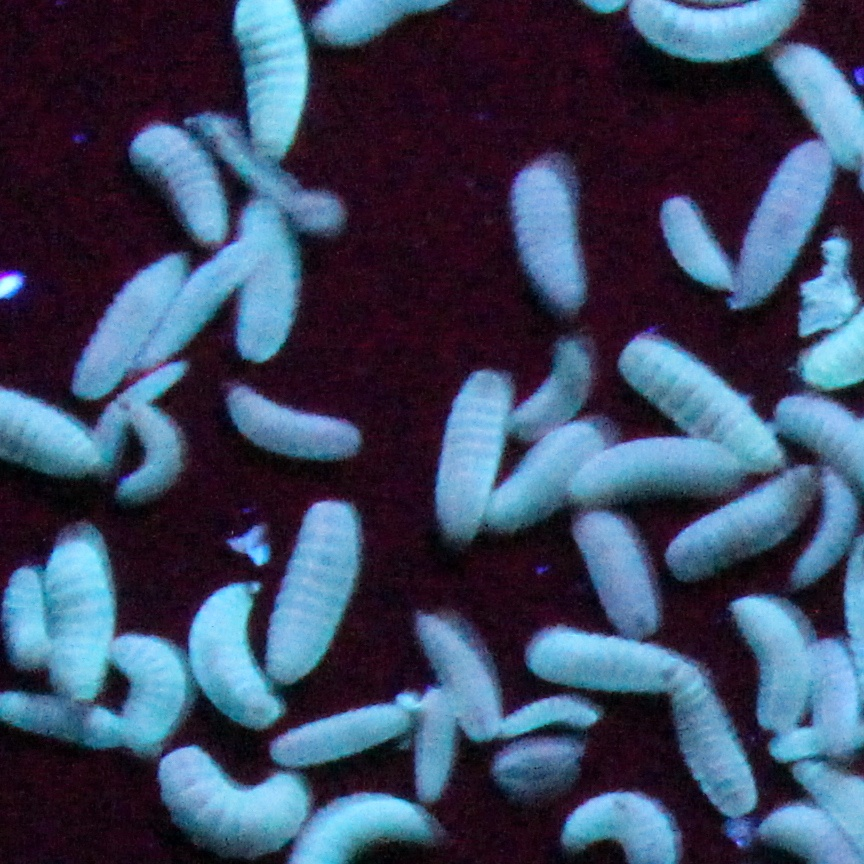larve: (616, 333, 785, 472), (731, 126, 835, 321), (156, 737, 313, 863), (261, 497, 366, 684), (561, 422, 753, 512), (430, 358, 515, 552), (480, 412, 614, 533), (146, 230, 263, 366), (74, 253, 182, 400), (665, 657, 756, 821), (403, 607, 510, 745), (122, 117, 232, 247), (190, 580, 286, 726), (568, 493, 658, 645), (502, 155, 587, 315), (230, 1, 310, 170), (531, 625, 708, 701), (721, 596, 816, 733), (230, 193, 305, 366), (42, 521, 112, 704), (497, 325, 596, 445), (221, 384, 363, 463), (632, 1, 804, 62), (267, 700, 420, 767), (105, 634, 182, 767), (657, 194, 751, 297), (115, 386, 185, 510), (403, 683, 458, 802), (811, 636, 864, 751), (486, 690, 604, 738)
